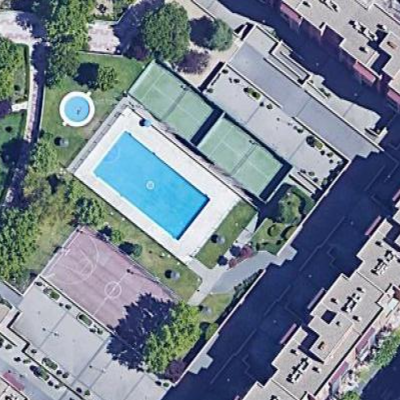tree: (138, 297, 212, 377), (1, 202, 52, 282), (139, 4, 188, 65), (40, 2, 102, 45), (43, 39, 95, 89), (17, 170, 60, 207), (28, 142, 65, 180), (204, 15, 239, 55), (178, 46, 216, 79), (91, 64, 123, 94)
